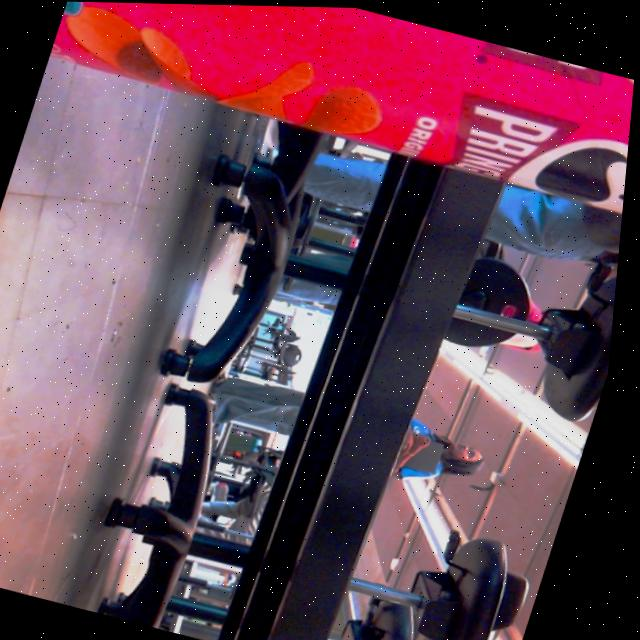redpringles: (30, 1, 640, 236)
